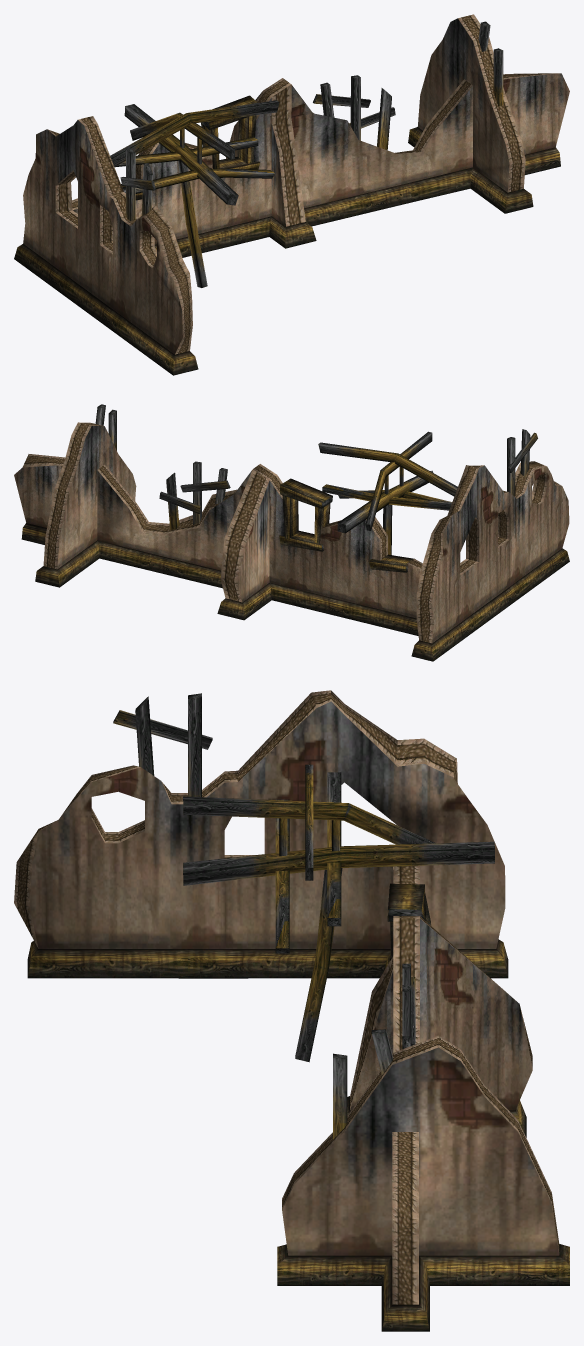
Rendered from CB_BRKN_BUILDING08_CM.fbx.
The picture shows the model from 3 angles, top to bottom: view 1: azimuth 30°, elevation 25°; view 2: azimuth 150°, elevation 25°; view 3: azimuth 270°, elevation 25°; orthographic projection. The views are drawn at different scales.
Visible parts, largest first — view 1: CB_BRKN_BUILDING08_CM; view 2: CB_BRKN_BUILDING08_CM; view 3: CB_BRKN_BUILDING08_CM.
Part boxes in pixels (x1,y1,x2,y2): CB_BRKN_BUILDING08_CM: (14, 14, 569, 375); CB_BRKN_BUILDING08_CM: (14, 404, 569, 661); CB_BRKN_BUILDING08_CM: (14, 690, 569, 1331).
Bounding box in the file's own units: 418742 × 146803 × 258079.
Materials: 7 (7 with a texture image).
